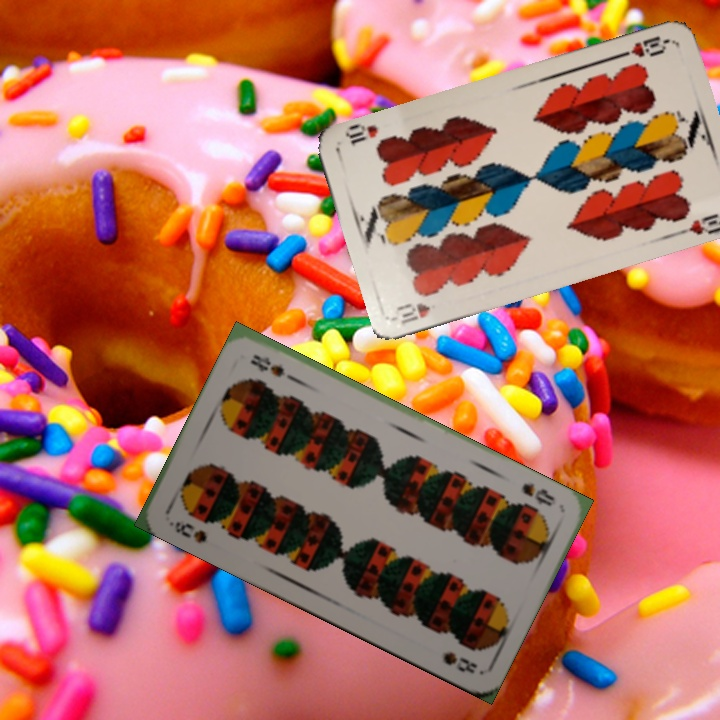H10: (614, 31, 672, 60), (393, 298, 433, 327)
S8: (164, 517, 210, 546), (518, 479, 559, 509)
